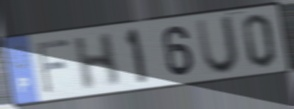0: (241, 12, 279, 71)
1: (123, 26, 151, 87)
6: (161, 24, 196, 79)
F: (34, 37, 72, 97)
H: (72, 30, 122, 93)
U: (194, 13, 241, 77)
